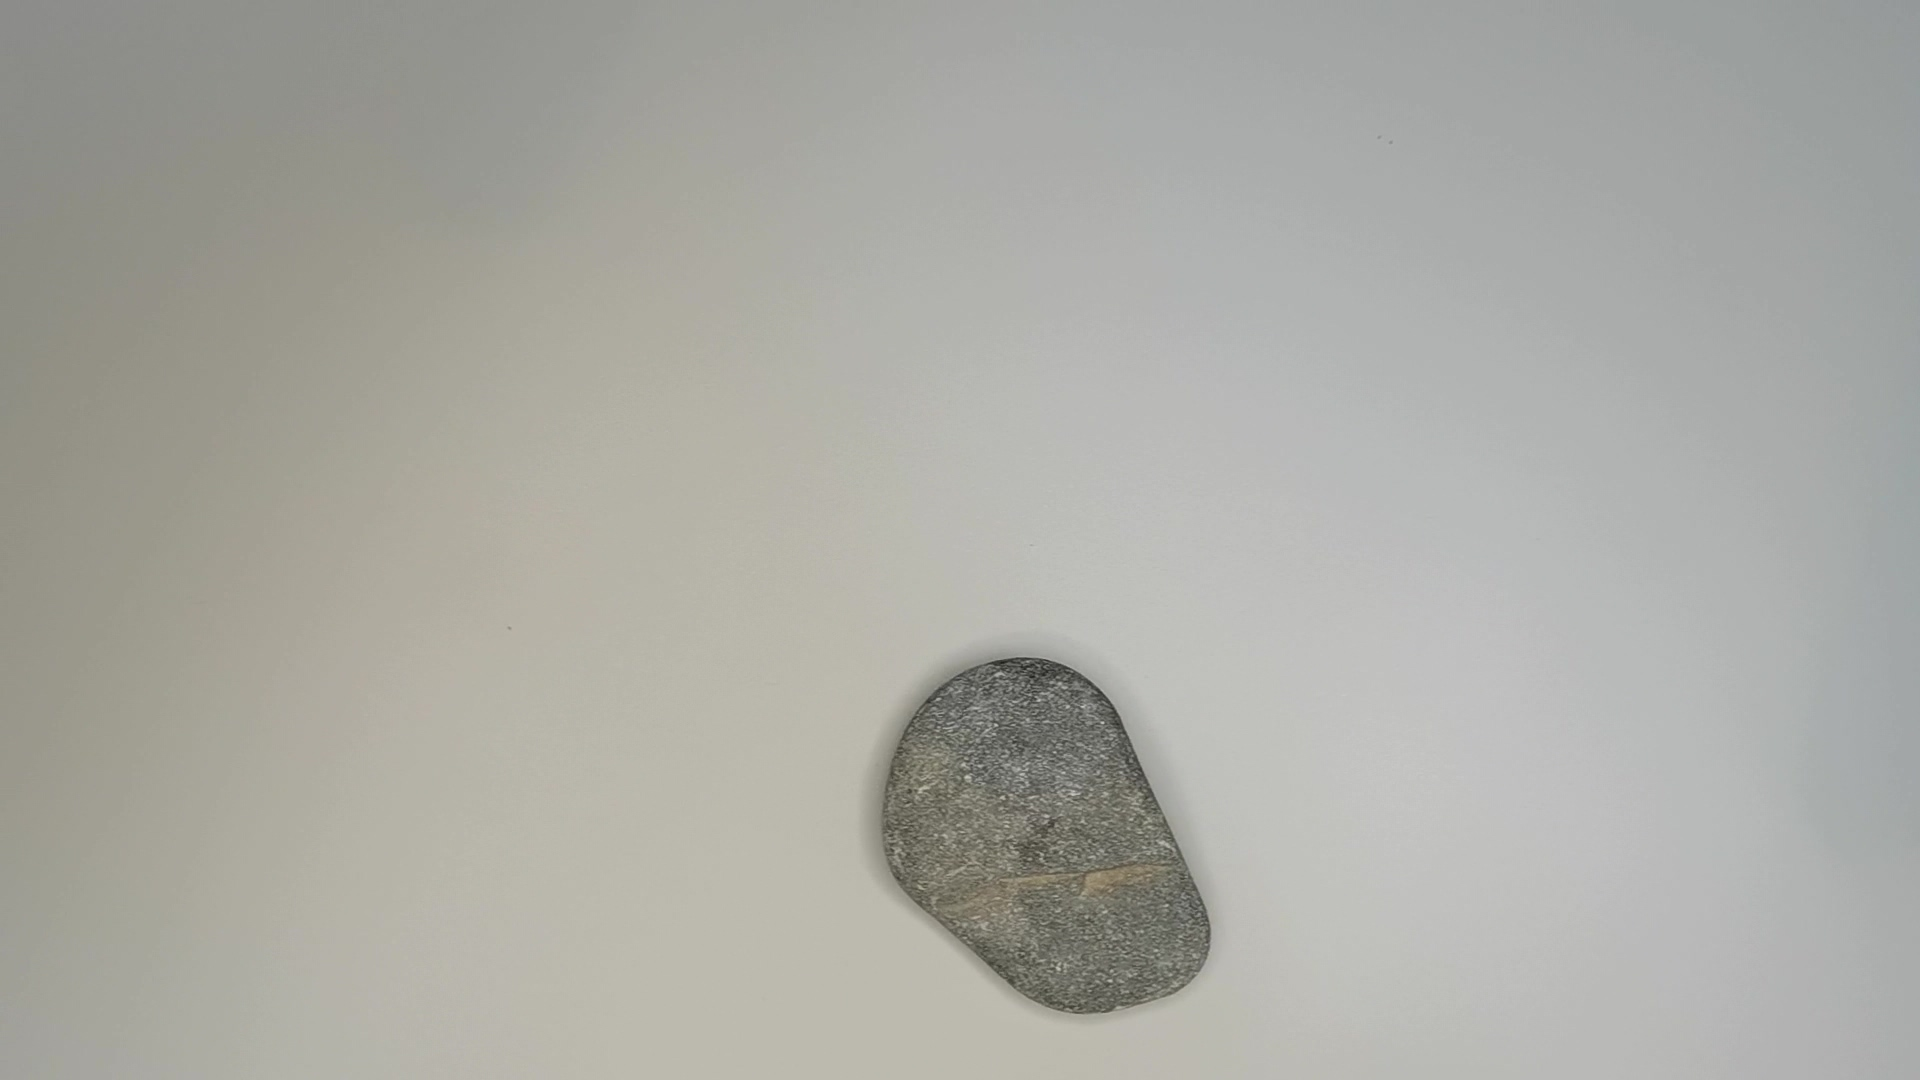ceramic: (872, 651, 1218, 1019)
